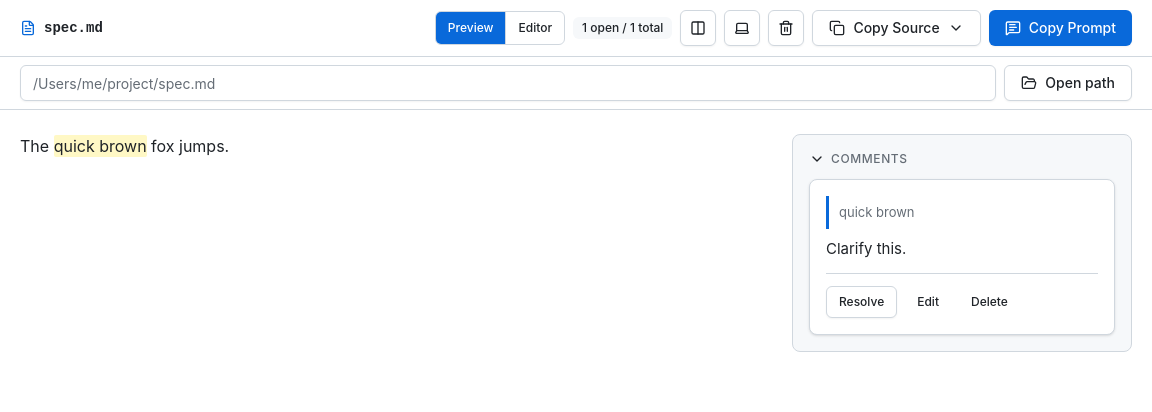
Test: App edit comment › saves the edited comment body on Save click
This screenshot has width=1152, height=412.
Check: the text "Clarify this." is shown, box left=826, top=239, right=906, bottom=258
Click the button "Edit" at (928, 302), box left=905, top=286, right=951, bottom=318
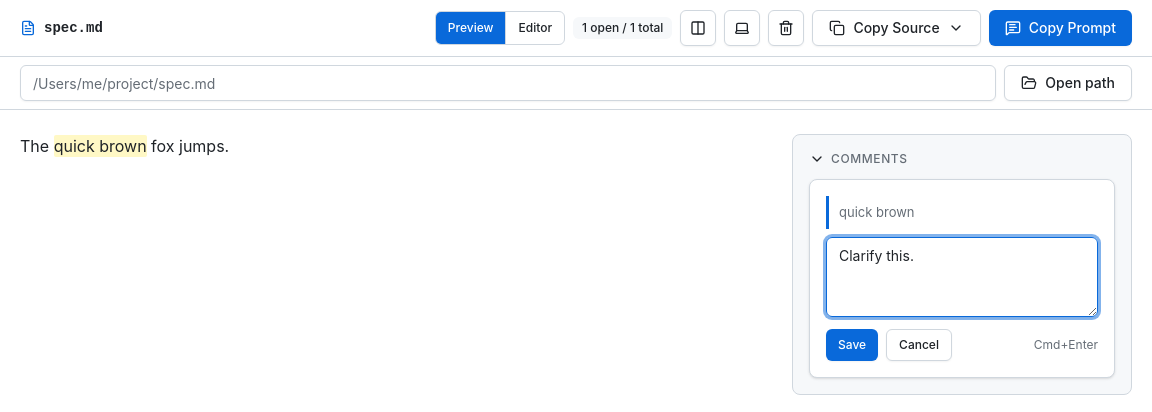
Replace the text in the text box showing "Clarify this." with "Updated comment text" at (962, 277), box left=826, top=237, right=1098, bottom=317
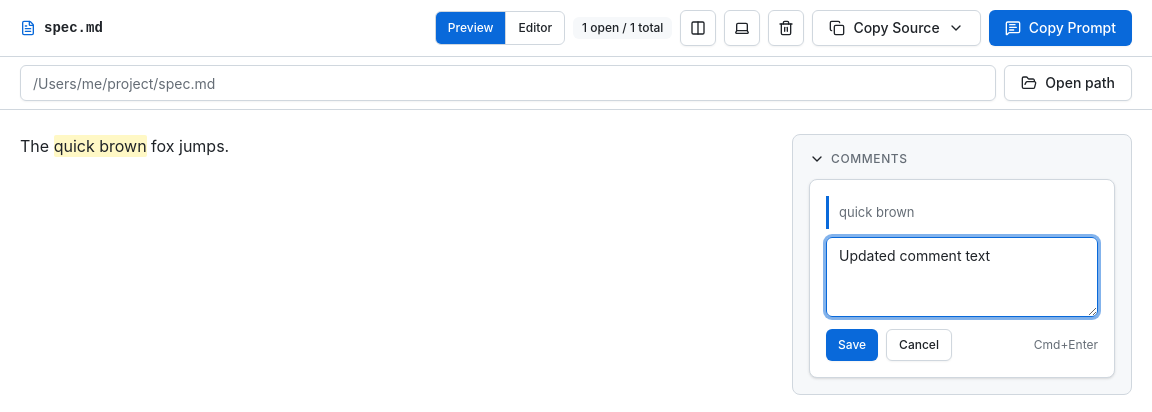
Click the button "Save" at (852, 345), box left=826, top=329, right=878, bottom=361
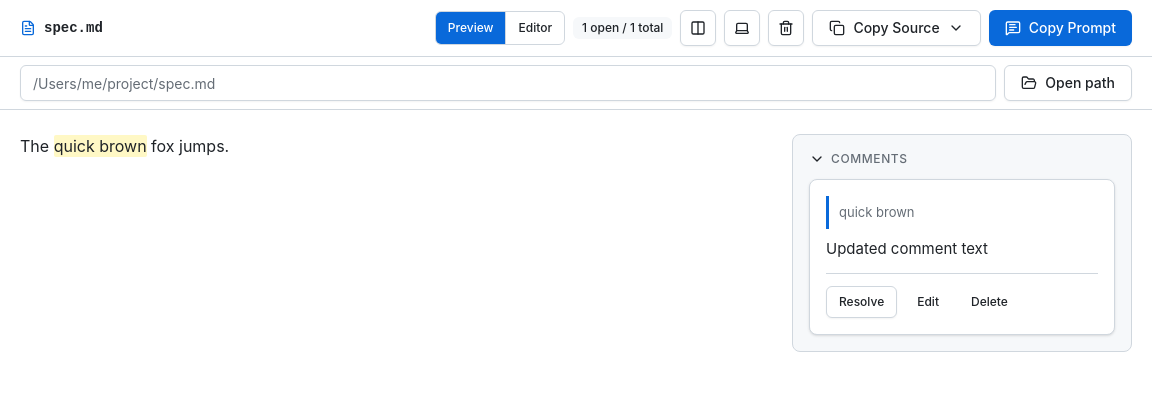
Check: the text "Updated comment text" is shown, box left=826, top=239, right=988, bottom=258
